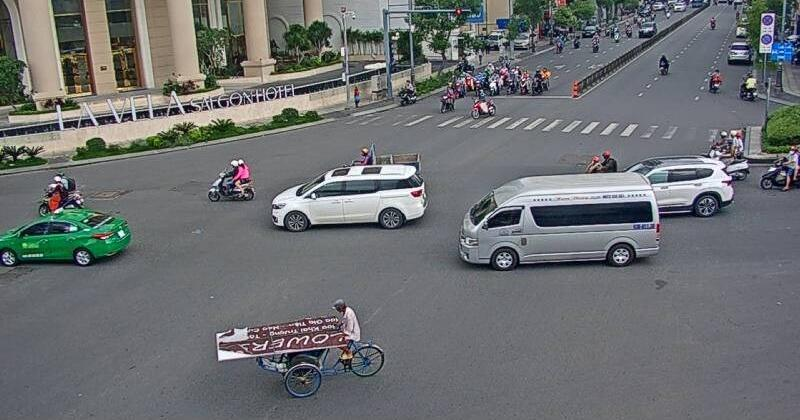xe dap: (283, 298, 385, 397)
xe hoi: (263, 166, 427, 232), (0, 207, 130, 264), (623, 157, 733, 216)
xe may: (207, 157, 254, 202), (760, 145, 800, 188)
xe van: (458, 174, 661, 273)
